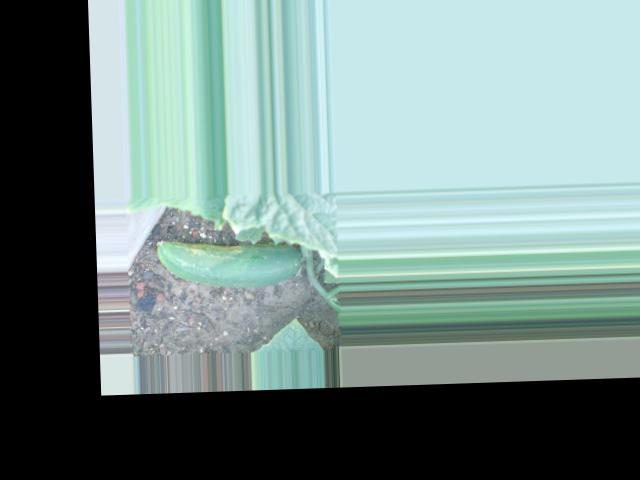cucumber: (156, 235, 301, 290)
